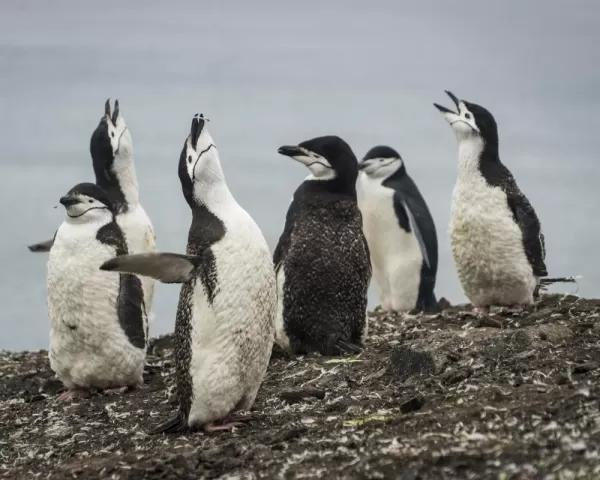Penguin: (100, 115, 276, 430), (433, 89, 575, 307), (273, 135, 371, 354), (48, 183, 145, 389), (357, 145, 437, 310), (90, 100, 155, 254), (138, 275, 155, 314)
